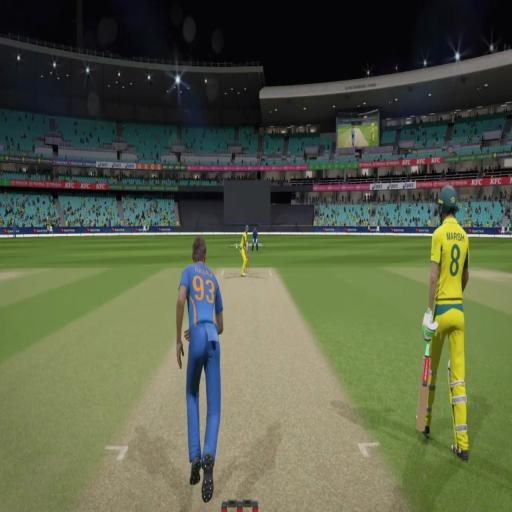ball: (235, 244, 238, 248)
